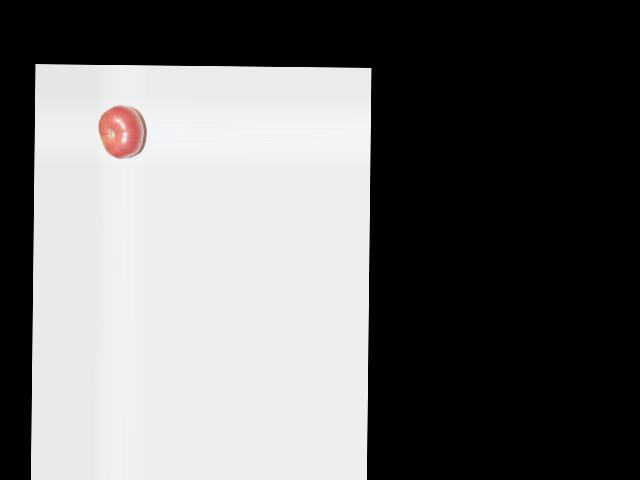tomato: (98, 104, 143, 159)
